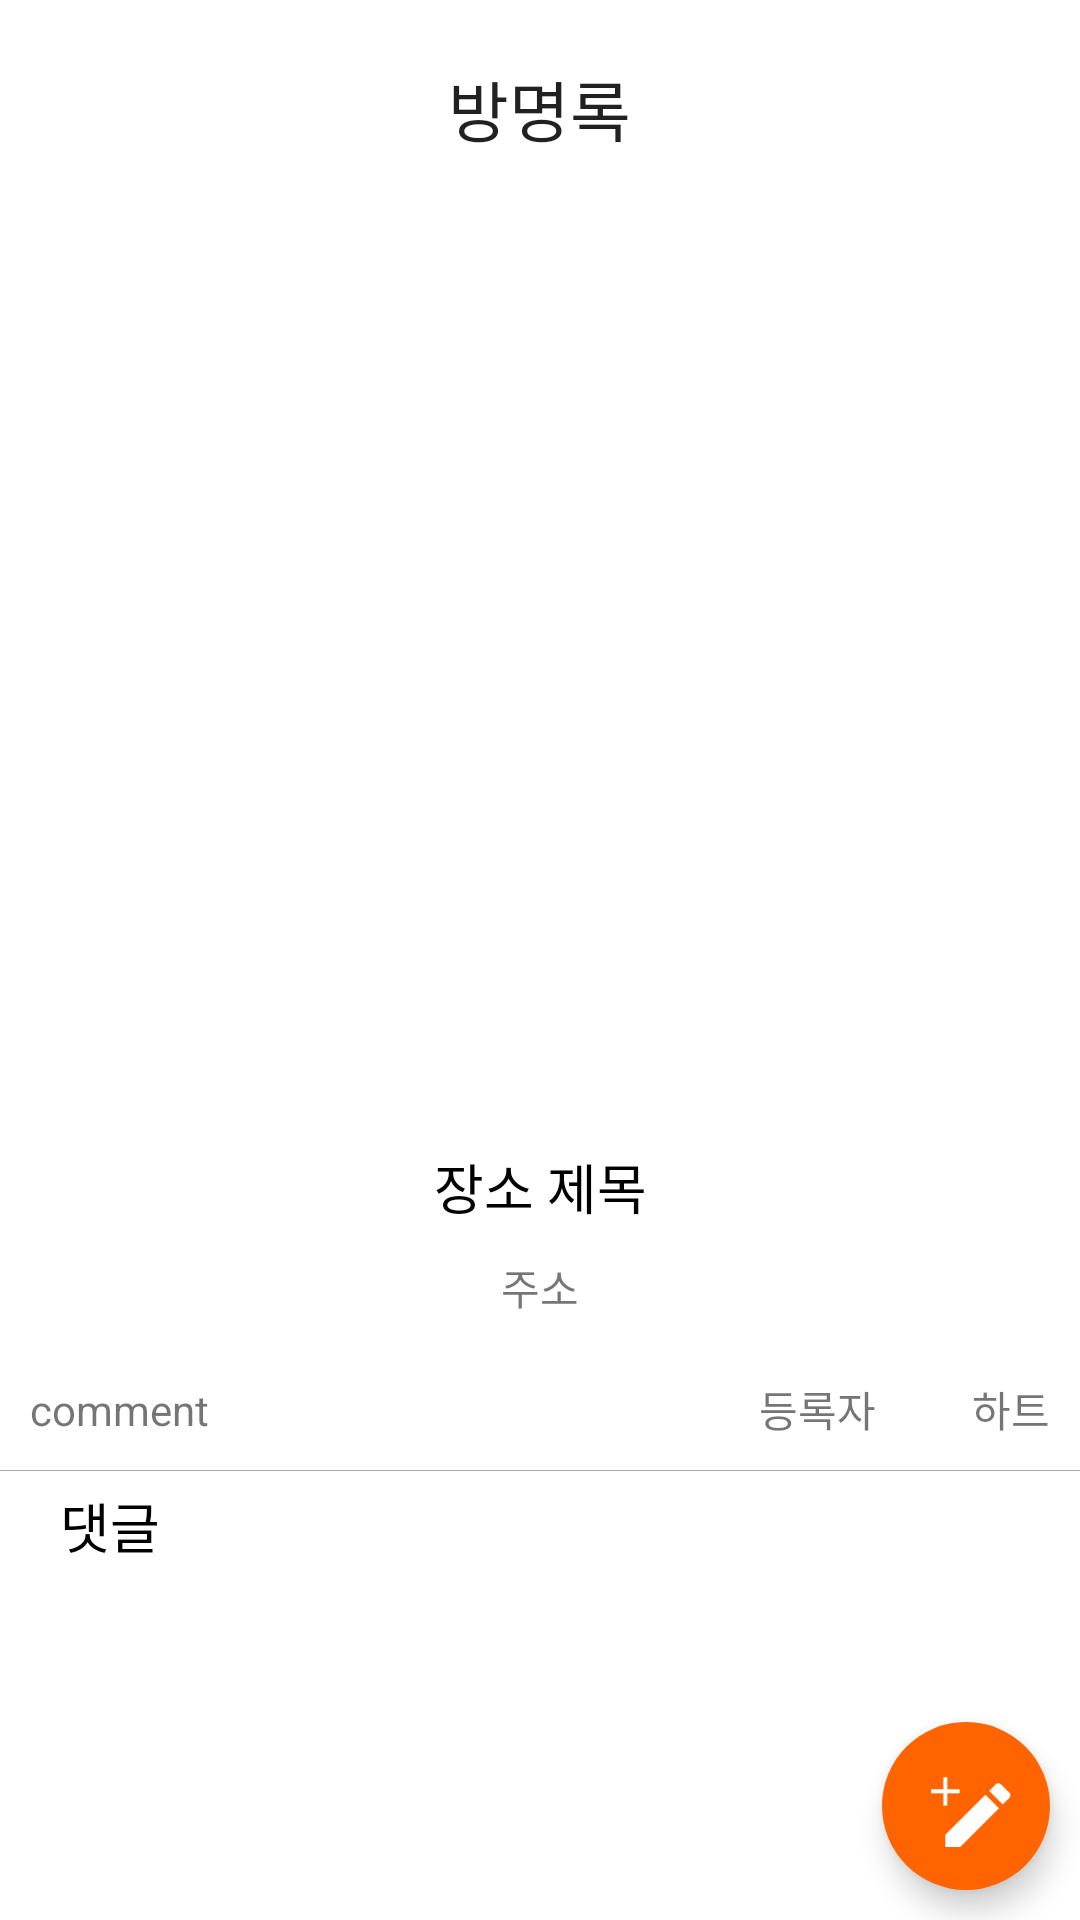

Where to tap for icons on this 1080x1920 app screen, as point (x, y):
add write: point (966, 1806)
